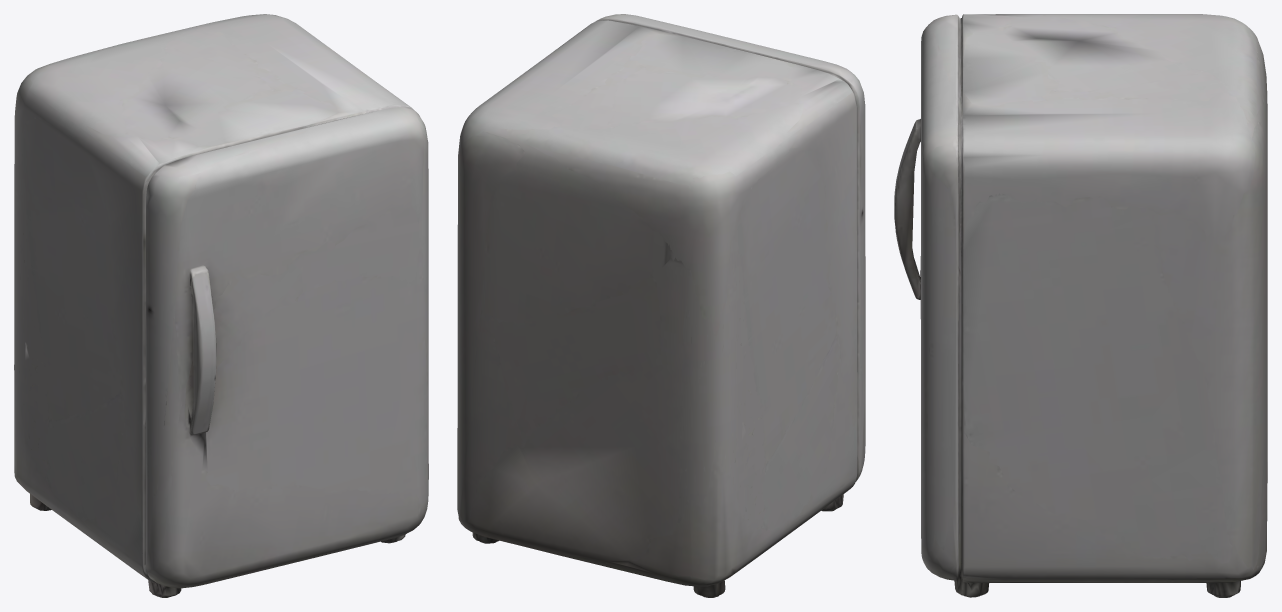
File: fridge-lite.glb
3 views of the same model, side by side, from view 1: azimuth 30°, elevation 25°; view 2: azimuth 150°, elevation 25°; view 3: azimuth 270°, elevation 25° (orthographic). The views are drawn at different scales.
Visible parts, largest first — view 1: node_0; view 2: node_0; view 3: node_0.
Part boxes in pixels (<box>): node_0: <box>14,14,428,597</box>; node_0: <box>457,14,865,597</box>; node_0: <box>894,14,1267,597</box>.
Size of the model in its own units: 0.6152 by 0.9269 by 0.6772.
1 material, 1 textured.
